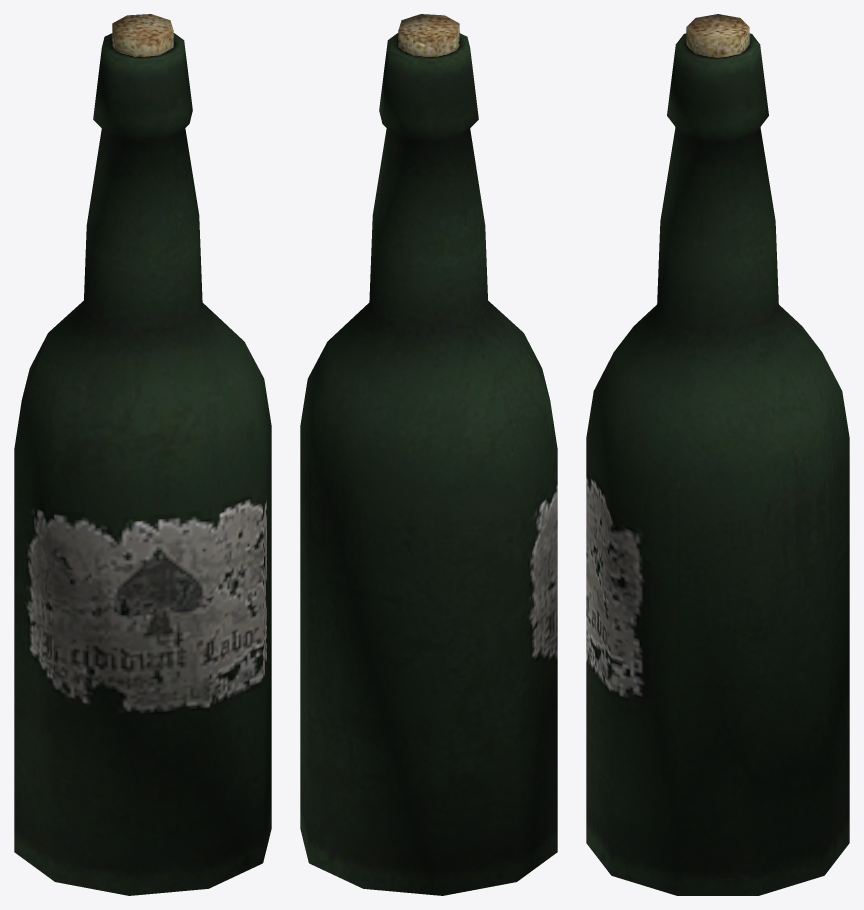
File: wine02.dae
3 views of the same model, side by side, from view 1: azimuth 30°, elevation 25°; view 2: azimuth 150°, elevation 25°; view 3: azimuth 270°, elevation 25° (orthographic).
Parts seen in each view (by area): view 1: winebottle; view 2: winebottle; view 3: winebottle.
Part boxes in pixels (left/top/right/bottom): winebottle: left=14, top=14, right=271, bottom=895; winebottle: left=300, top=14, right=557, bottom=895; winebottle: left=586, top=14, right=849, bottom=895.
Bounding box in the file's own units: 0.0964 × 0.3461 × 0.1013.
